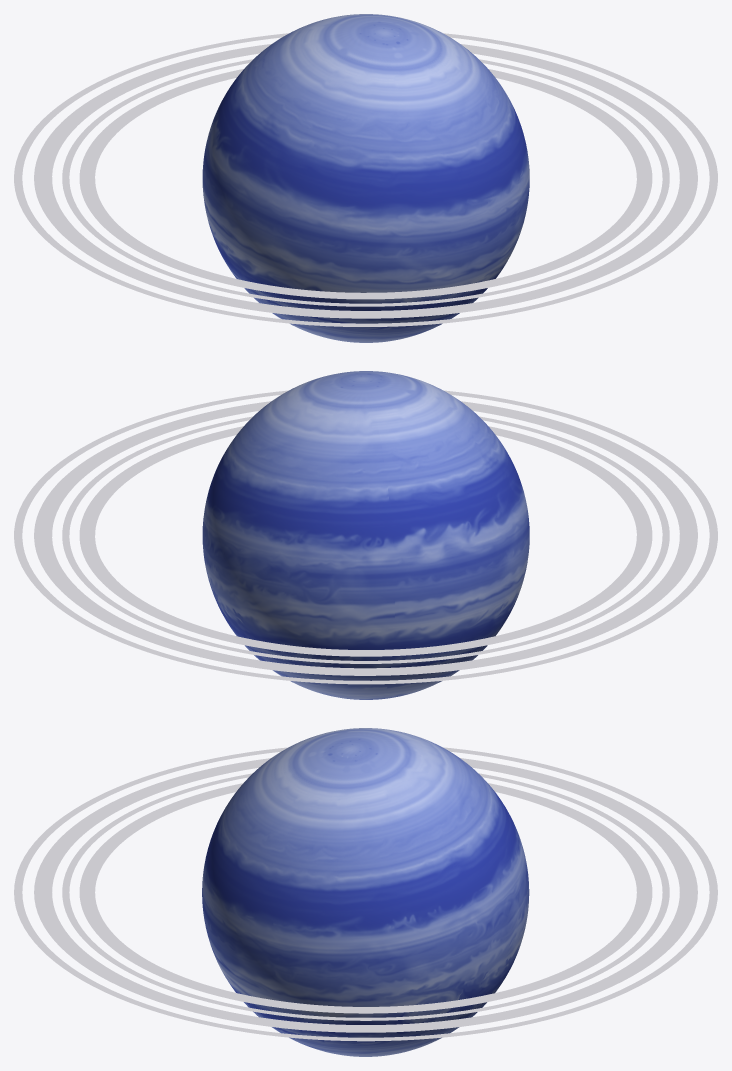
The model's file is saturn (1).glb.
The picture shows the model from 3 angles, top to bottom: view 1: azimuth 30°, elevation 25°; view 2: azimuth 150°, elevation 25°; view 3: azimuth 270°, elevation 25°; orthographic projection.
Visible parts, largest first — view 1: Sphere.001, Sphere.004; view 2: Sphere.001, Sphere.004; view 3: Sphere.001, Sphere.004.
Part boxes in pixels (x1,y1,x2,y2): Sphere.001: (202, 14, 529, 342); Sphere.004: (14, 33, 717, 326); Sphere.001: (202, 371, 529, 699); Sphere.004: (14, 390, 717, 684); Sphere.001: (202, 728, 529, 1056); Sphere.004: (14, 747, 717, 1041).
Bounding box in the file's own units: 4.25 × 2 × 4.25.
Materials: 2 (1 with a texture image).
